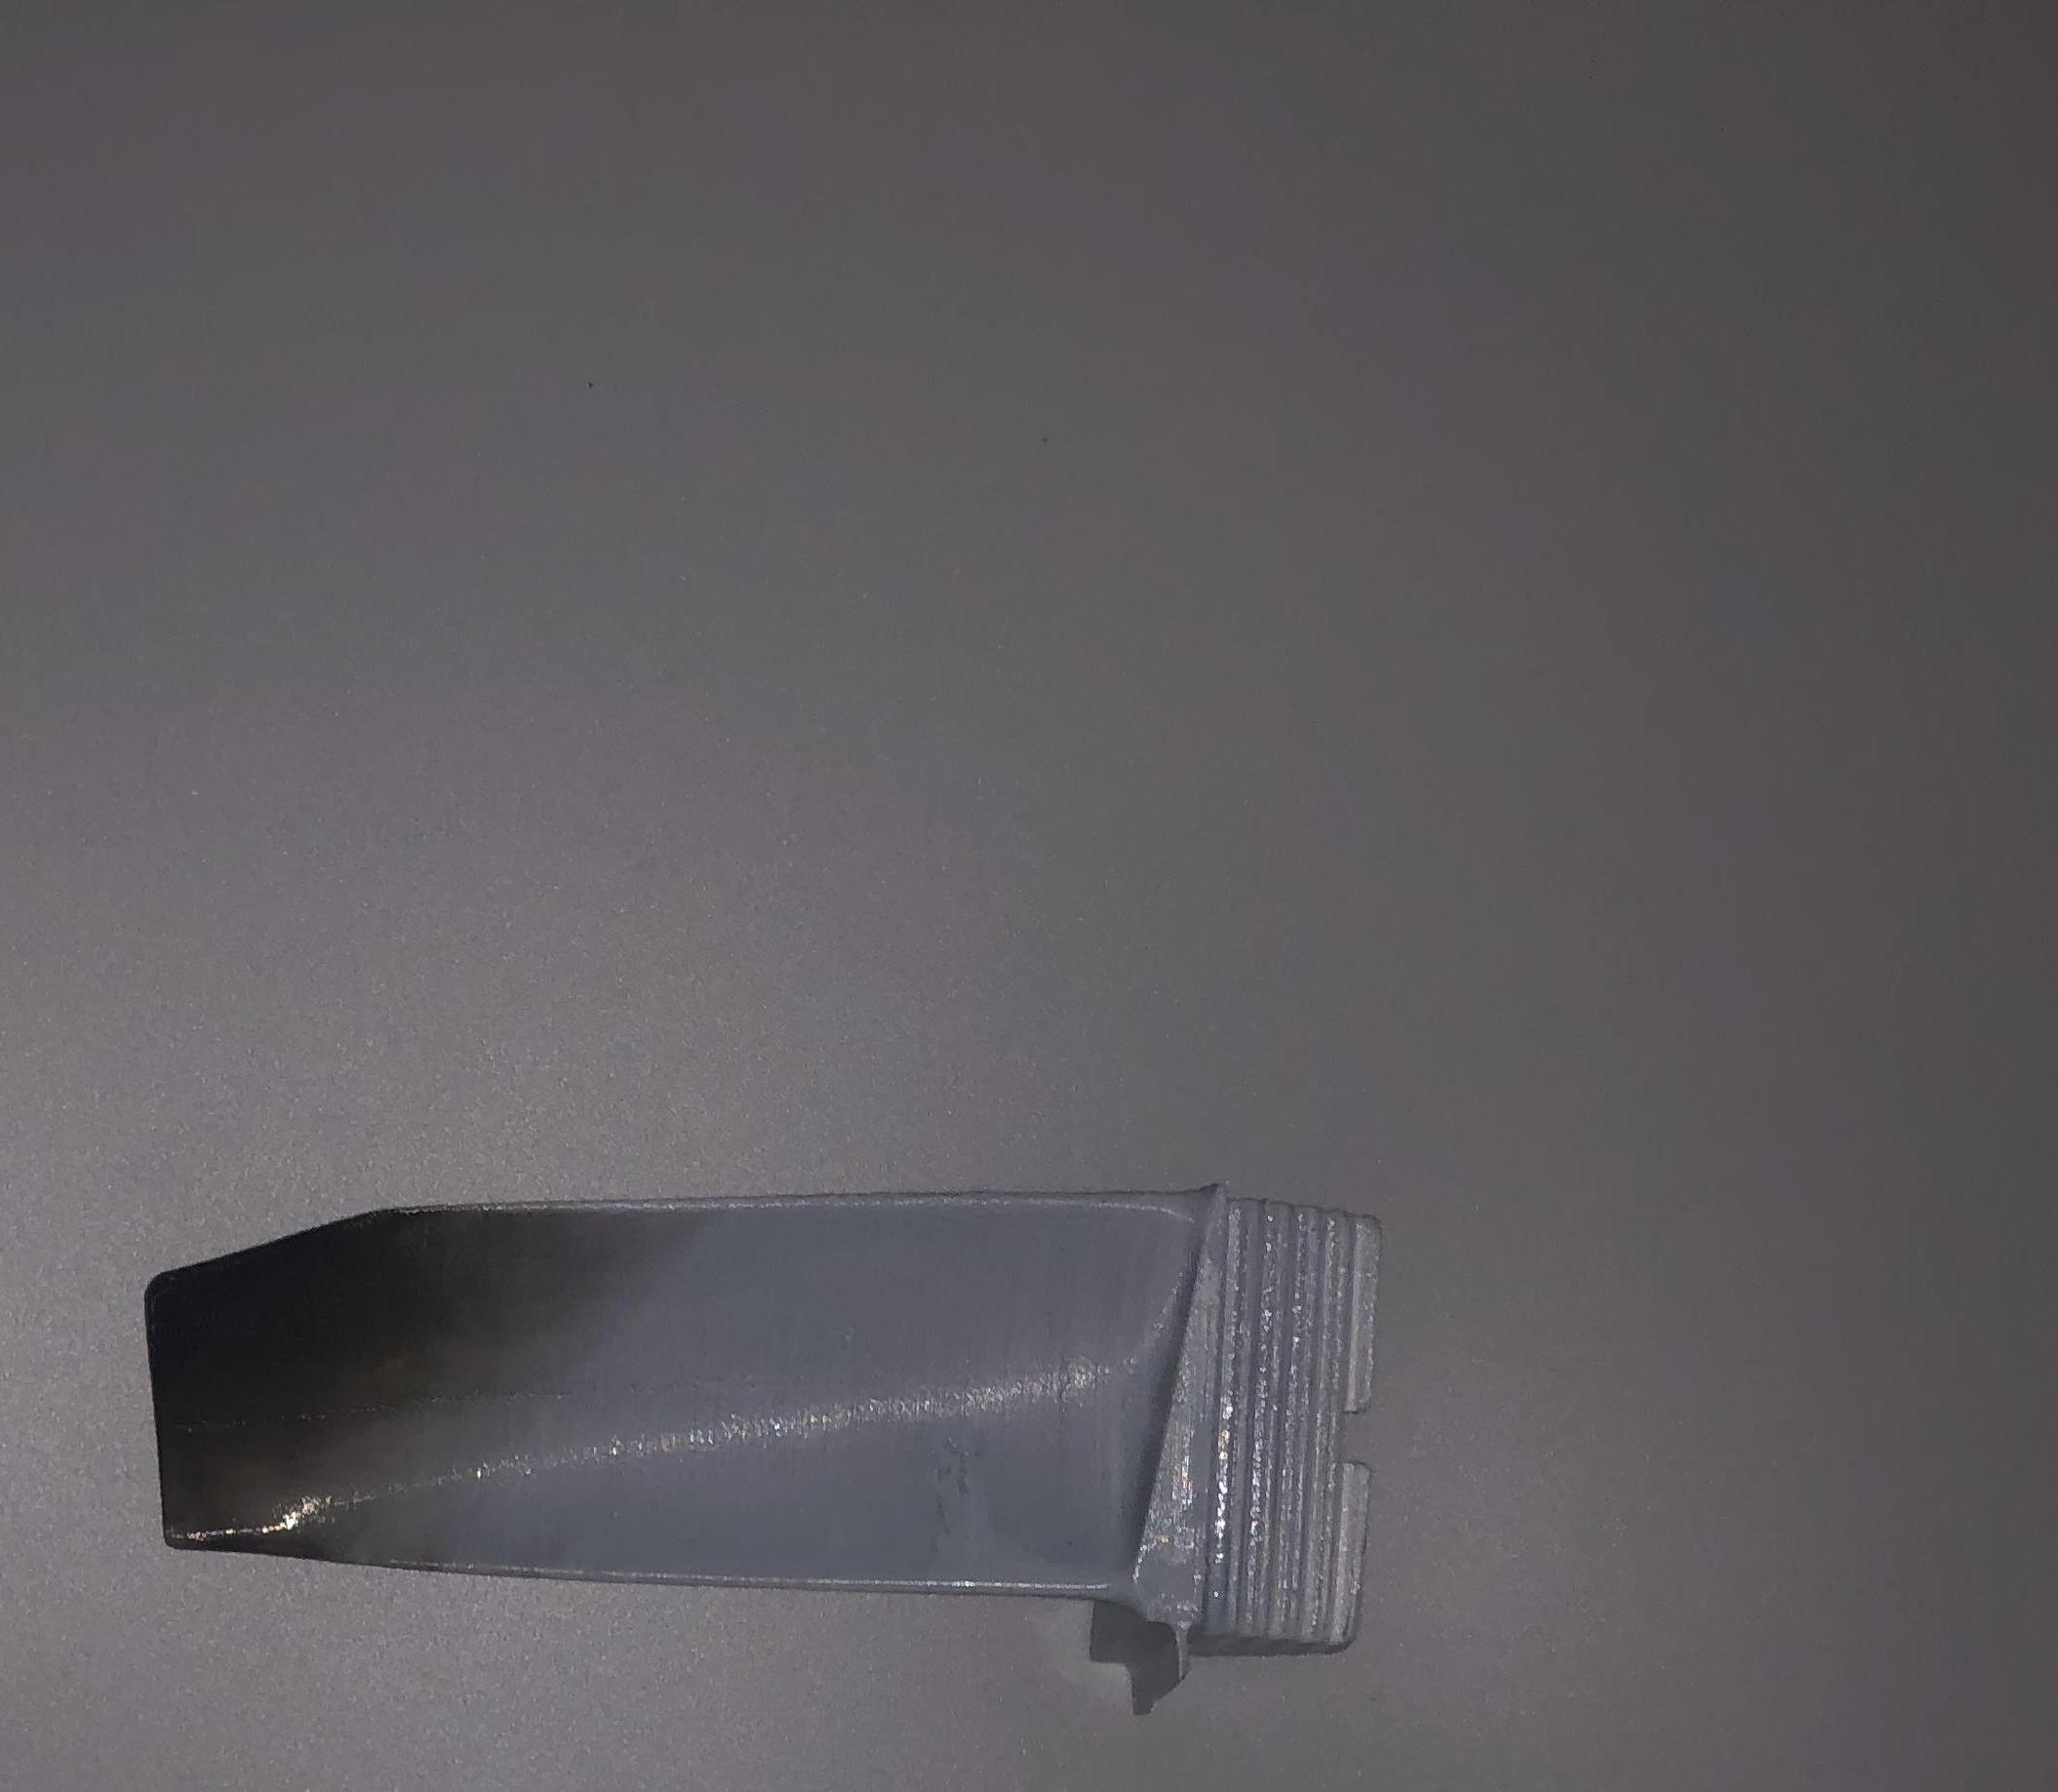ablation: (166, 1242, 460, 1535)
